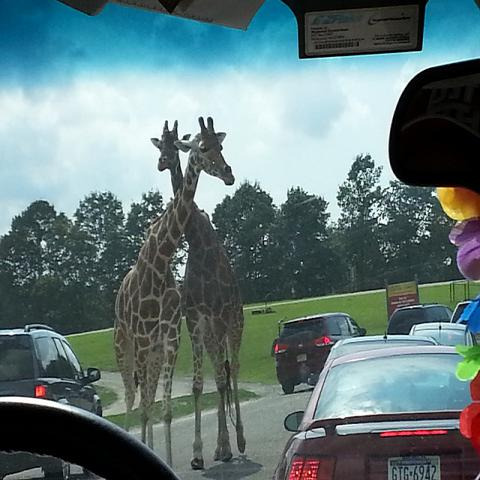car: (273, 342, 479, 473), (0, 396, 176, 476), (0, 330, 107, 416), (271, 312, 368, 395), (324, 324, 442, 367), (387, 305, 457, 335), (409, 322, 478, 346), (453, 300, 473, 322)
